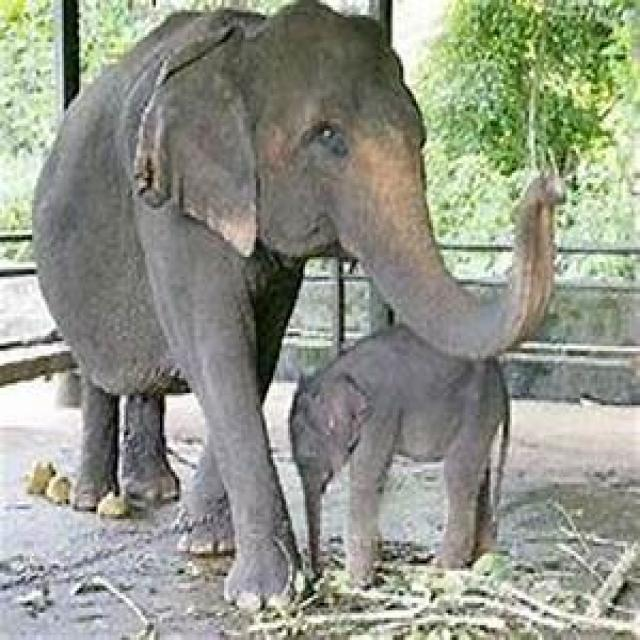elephant: (30, 0, 555, 610), (288, 326, 512, 591)
